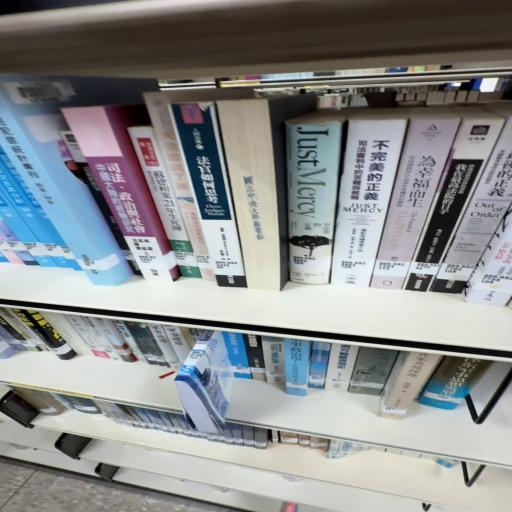backward: (218, 96, 316, 292)
book: (59, 111, 181, 289), (206, 95, 313, 294), (152, 102, 249, 294), (127, 124, 209, 290)
